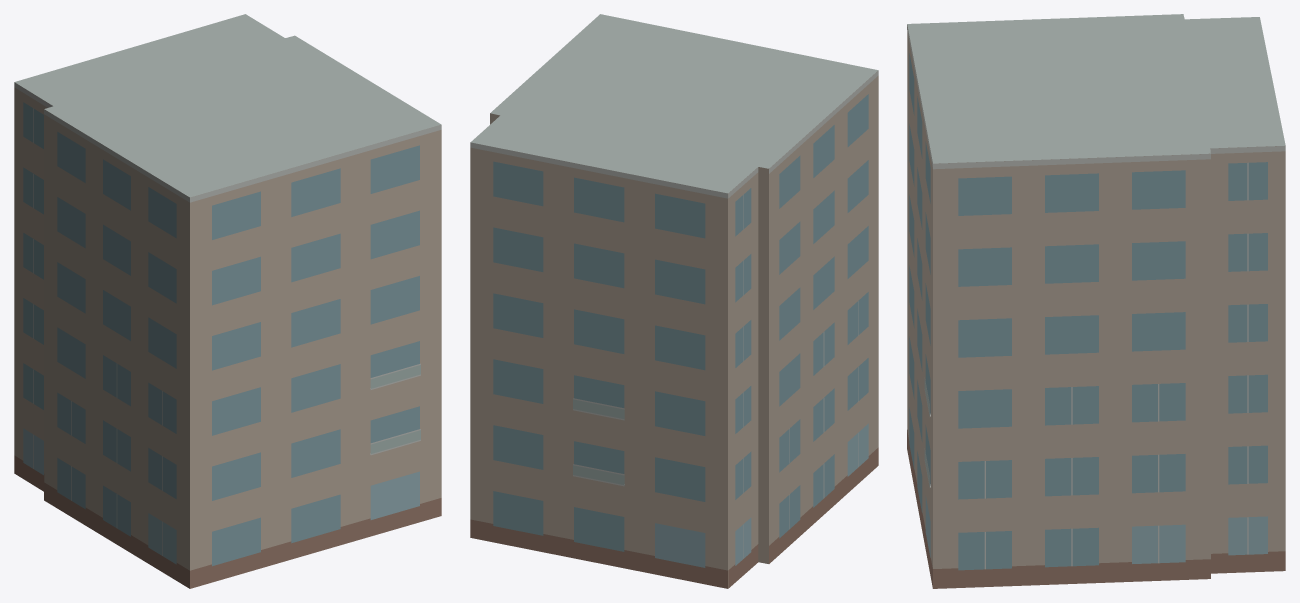
Rendered from survey-upis-33015477.glb.
3 views of the same model, side by side, from view 1: azimuth 30°, elevation 25°; view 2: azimuth 150°, elevation 25°; view 3: azimuth 270°, elevation 25° (orthographic). The views are drawn at different scales.
Visible parts, largest first — view 1: survey-upis-33015477.tmp; view 2: survey-upis-33015477.tmp; view 3: survey-upis-33015477.tmp.
Boxes of the visible parts, x1,y1,x2,y2 form: survey-upis-33015477.tmp: (14, 14, 441, 588); survey-upis-33015477.tmp: (470, 14, 878, 588); survey-upis-33015477.tmp: (907, 14, 1285, 588).
Bounding box in the file's own units: 14.05 × 18.6 × 15.02.
